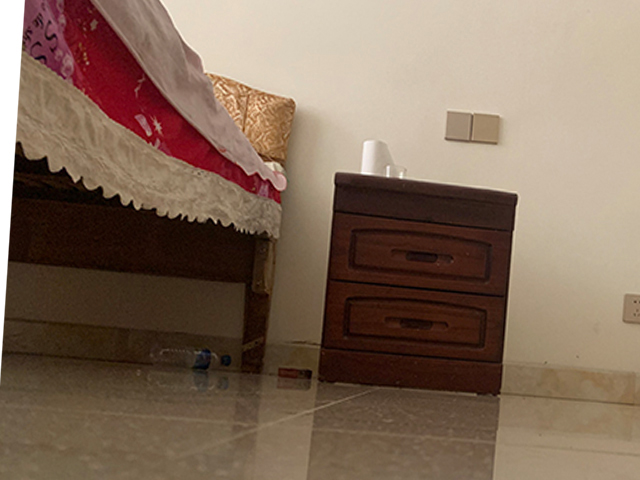bed: (11, 1, 295, 374)
cabinet: (318, 171, 518, 396)
